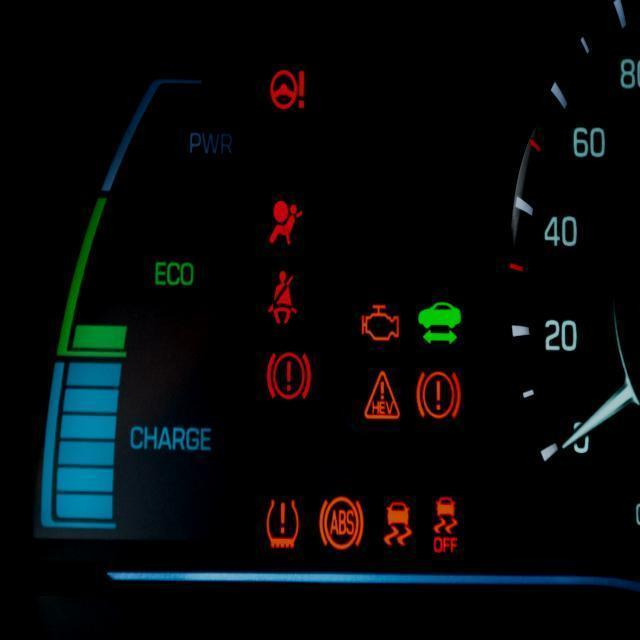Electronic Power Steering: (264, 68, 310, 109)
Seat Belt: (264, 270, 298, 325)
